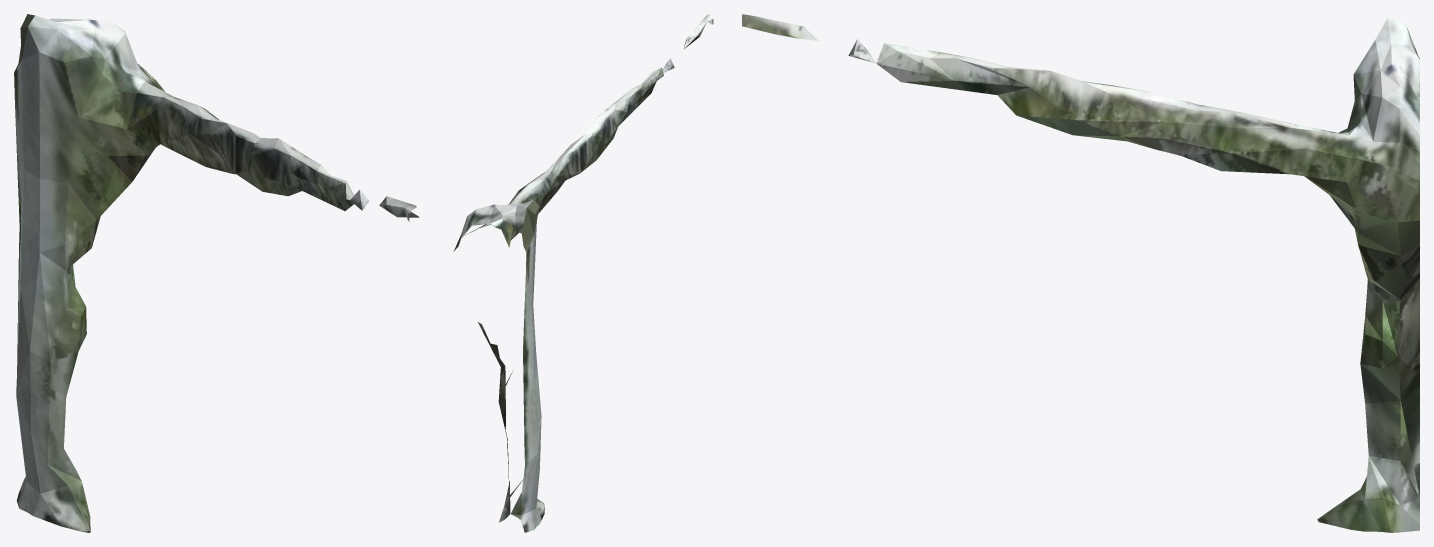
3 views of the same model, side by side, from view 1: azimuth 30°, elevation 25°; view 2: azimuth 150°, elevation 25°; view 3: azimuth 270°, elevation 25° (orthographic). The views are drawn at different scales.
Bounding box in the file's own units: 0.6427 × 2.53 × 2.95.
1 material, 1 textured.
